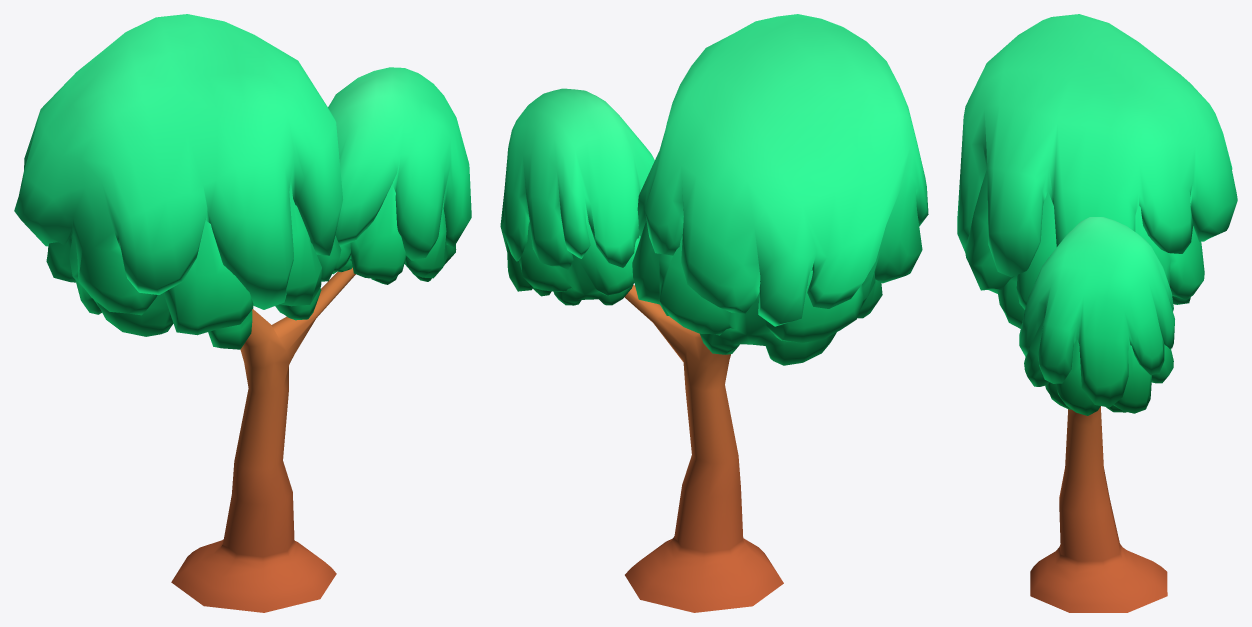
The model's file is Tree_04.fbx.
The picture shows the model from 3 angles, left to right: view 1: azimuth 30°, elevation 25°; view 2: azimuth 150°, elevation 25°; view 3: azimuth 270°, elevation 25°; orthographic projection. The views are drawn at different scales.
Parts seen in each view (by area): view 1: Tree_04; view 2: Tree_04; view 3: Tree_04.
Part boxes in pixels (<box>): Tree_04: <box>14,14,471,612</box>; Tree_04: <box>500,14,928,612</box>; Tree_04: <box>957,14,1237,612</box>.
Size of the model in its own units: 299 by 416 by 203.
